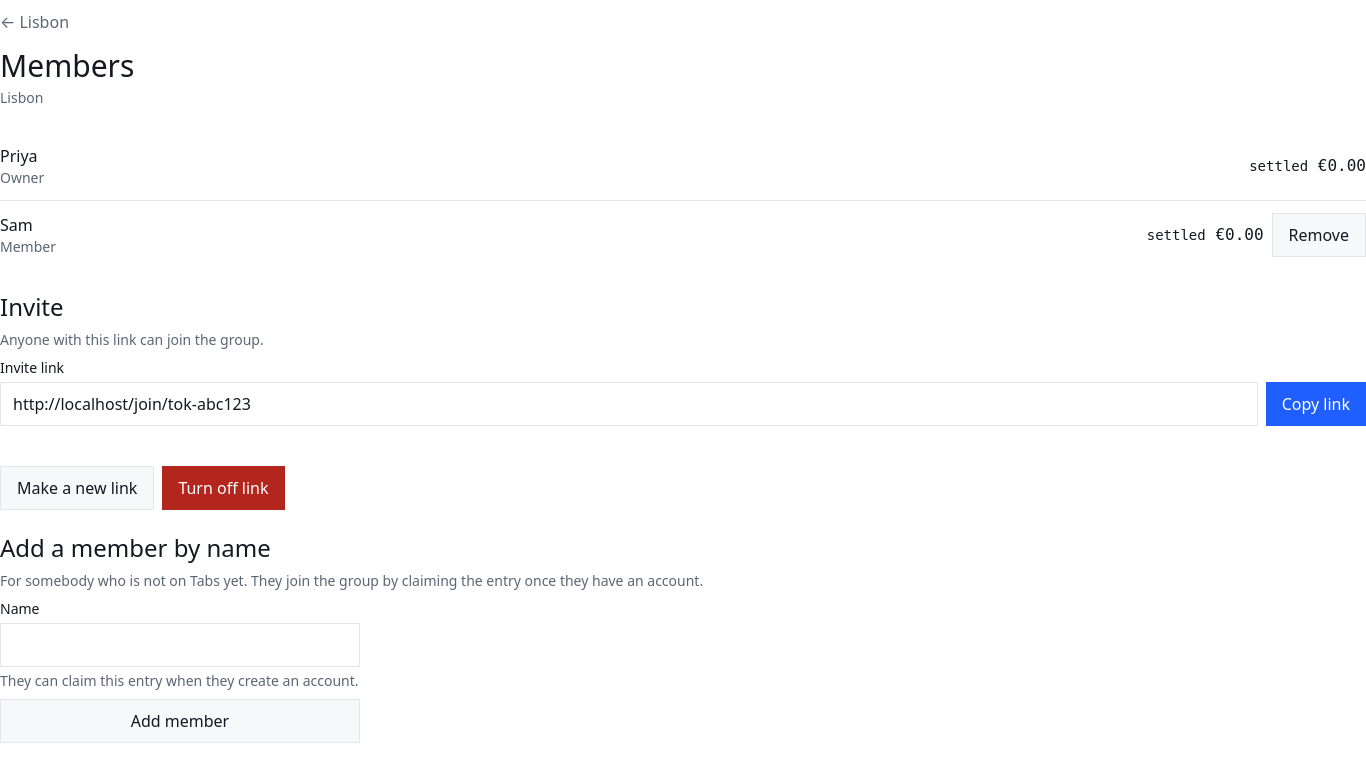
Scenario: the members screen › confirms a removal in a dialog that names the member, and Escape dismisses it
The width and height of the screenshot is (1366, 768).
Click the button "Remove" at (1319, 235), box 1272,213 -> 1365,257
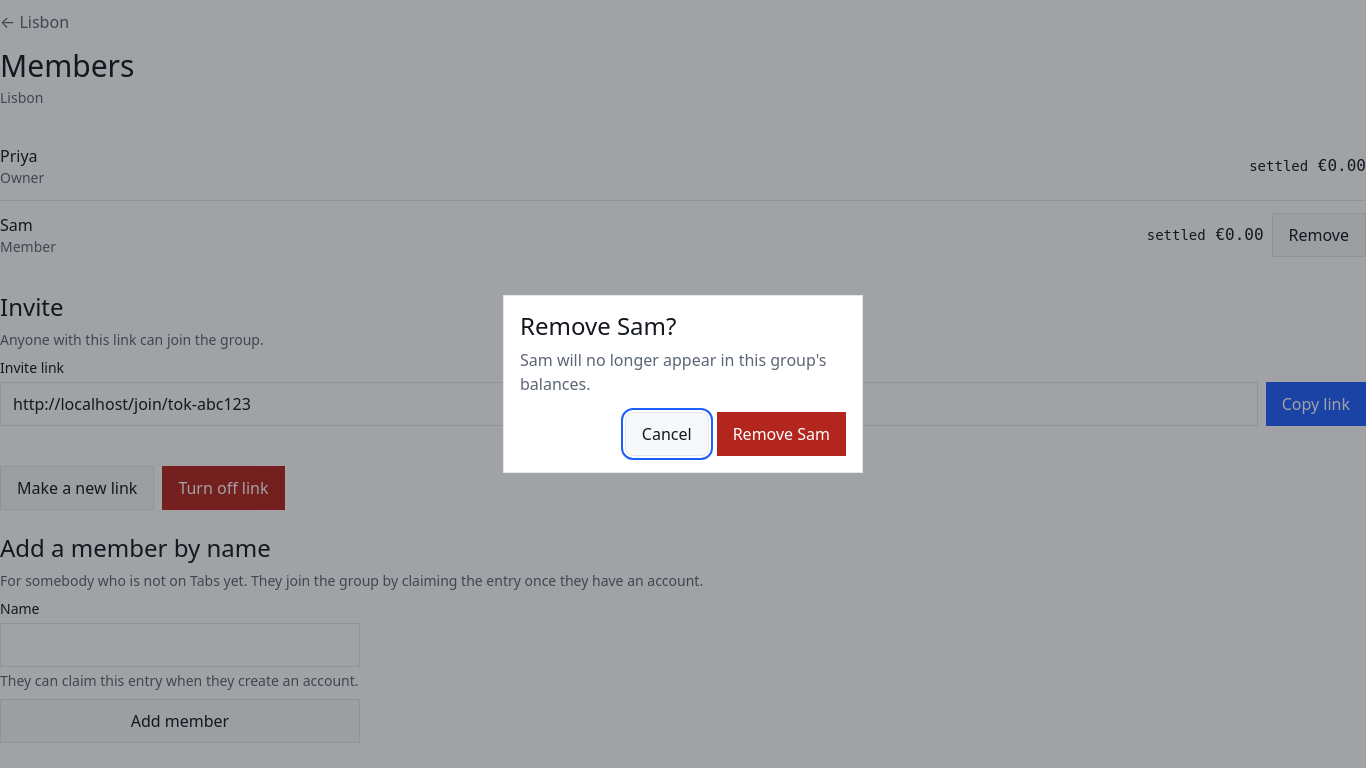
Result: the heading "Remove Sam?" is shown at 520,309 -> 676,342
Result: the dialog shows "Sam will no longer appear in this group's balances." at 520,349 -> 826,395
Press Escape
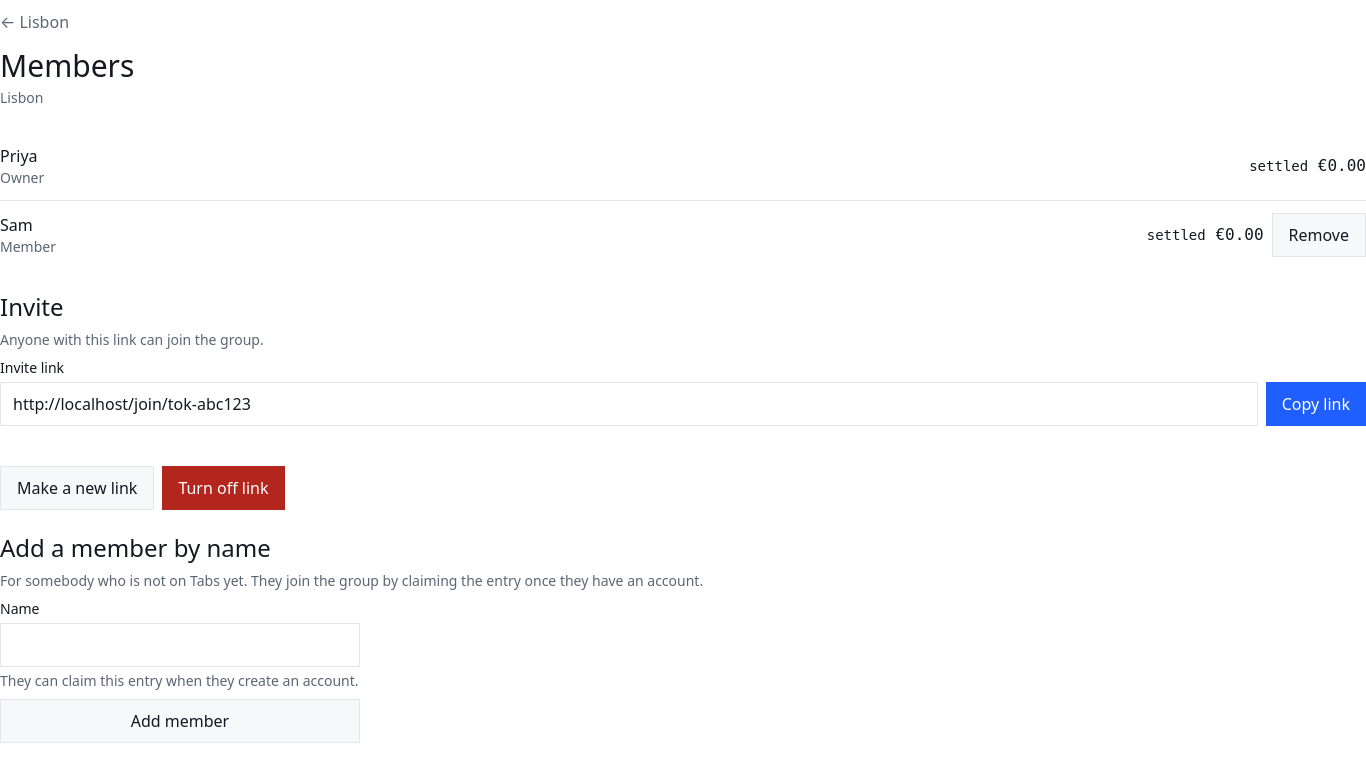
Result: the dialog is gone
